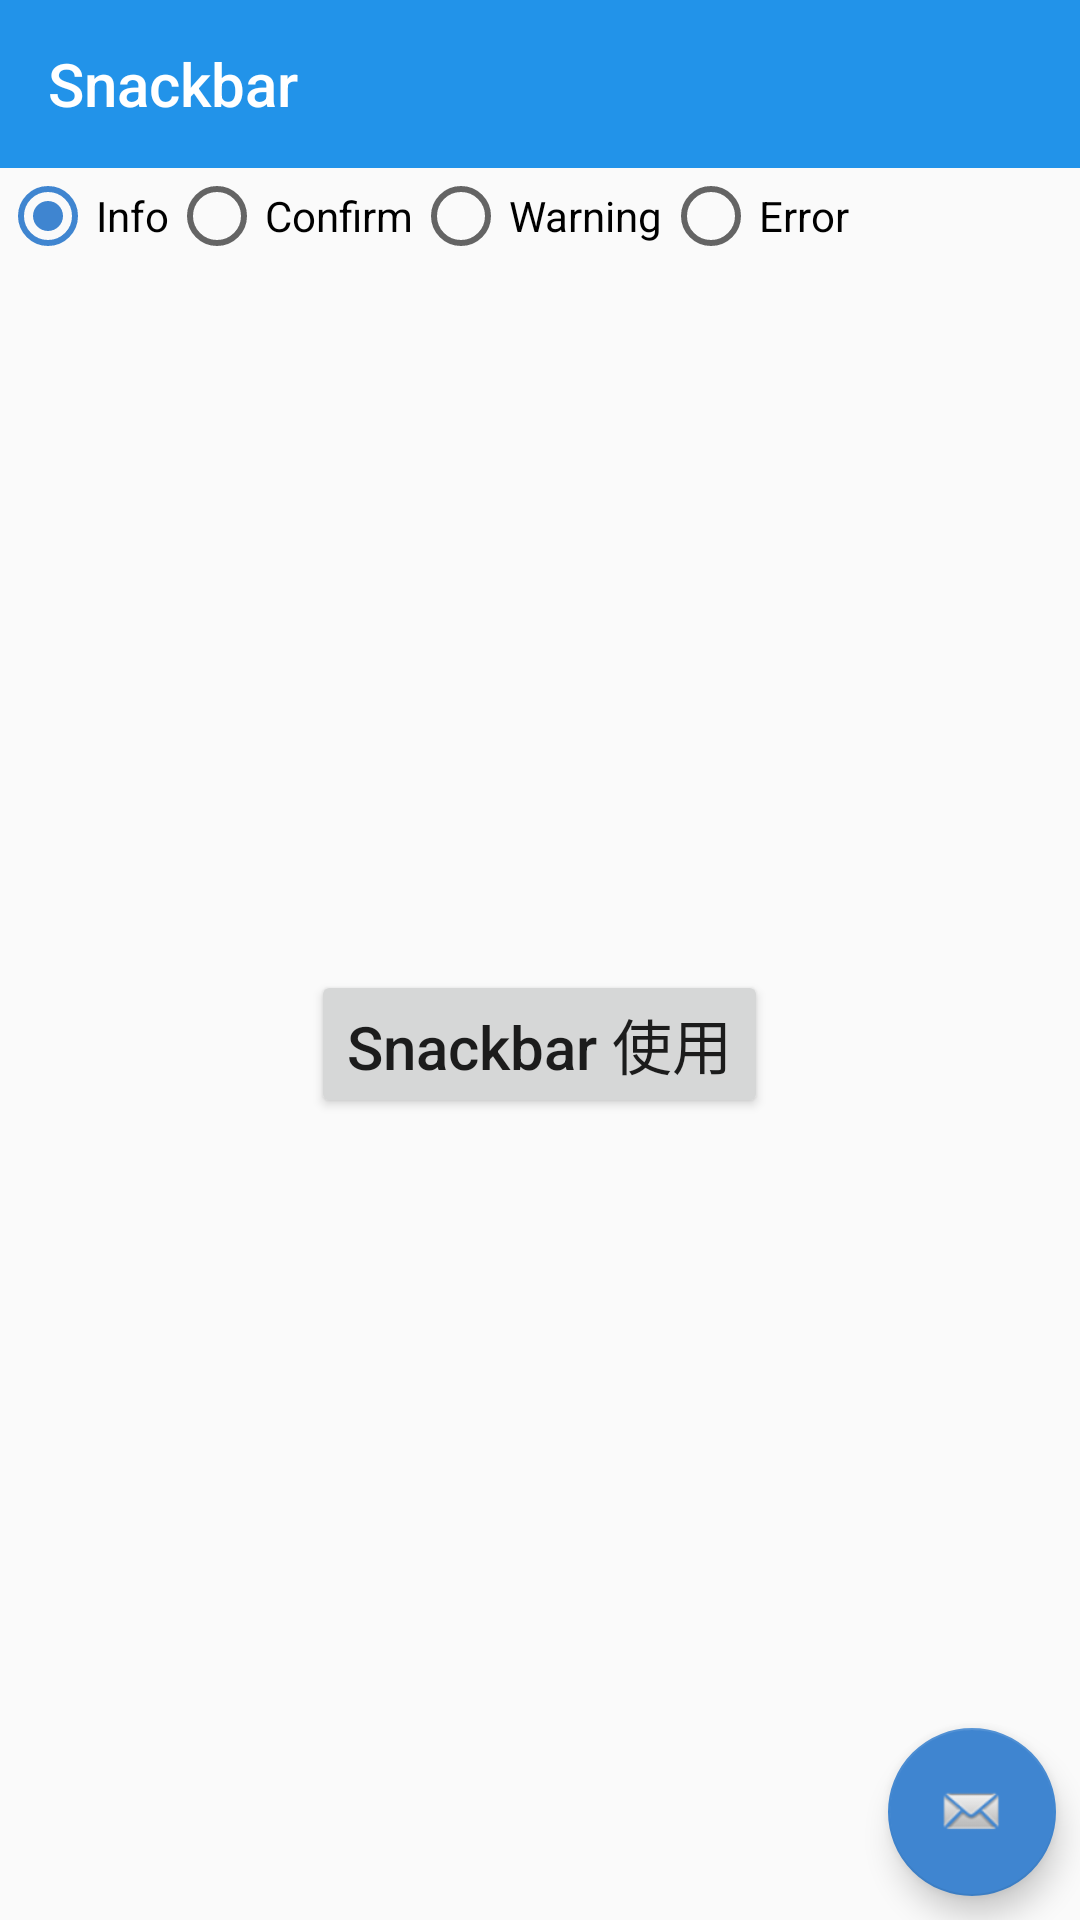

Where to tap for icons on this 1080*1920 app screen, as [x,y]:
sym action email: [972,1812]
